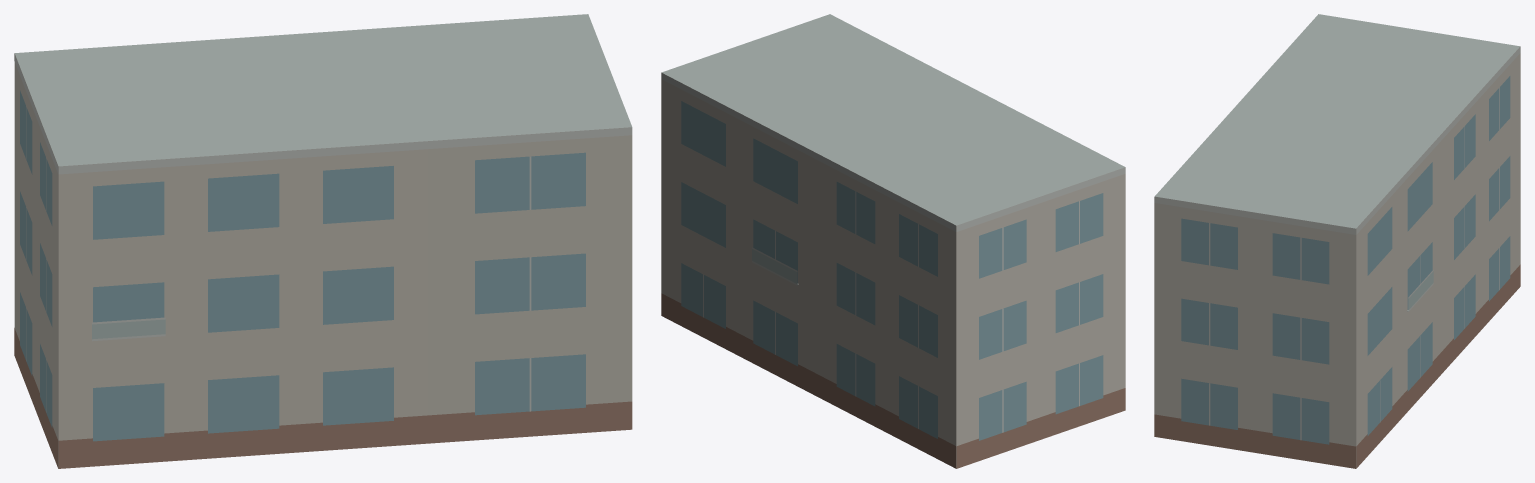
File: survey-upis-33018949.glb
The picture shows the model from 3 angles, left to right: view 1: azimuth 30°, elevation 25°; view 2: azimuth 150°, elevation 25°; view 3: azimuth 270°, elevation 25°; orthographic projection. The views are drawn at different scales.
Parts seen in each view (by area): view 1: survey-upis-33018949.tmp; view 2: survey-upis-33018949.tmp; view 3: survey-upis-33018949.tmp.
Boxes of the visible parts, <box> form: survey-upis-33018949.tmp: <box>14,14,632,468</box>; survey-upis-33018949.tmp: <box>661,14,1125,468</box>; survey-upis-33018949.tmp: <box>1154,14,1520,468</box>.
Bounding box in the file's own units: 17.54 × 9.15 × 12.64.
